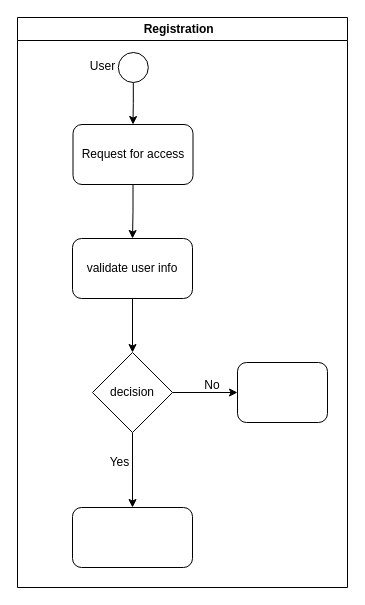
The diagram is 365 pixels wide and 605 high, and some of its shapes have lost their labels. The centre of each missing label's shape, as x and y in pixels:
"forward the request to admin" belongs at pixel 132 537.
"inform the user" belongs at pixel 282 392.
